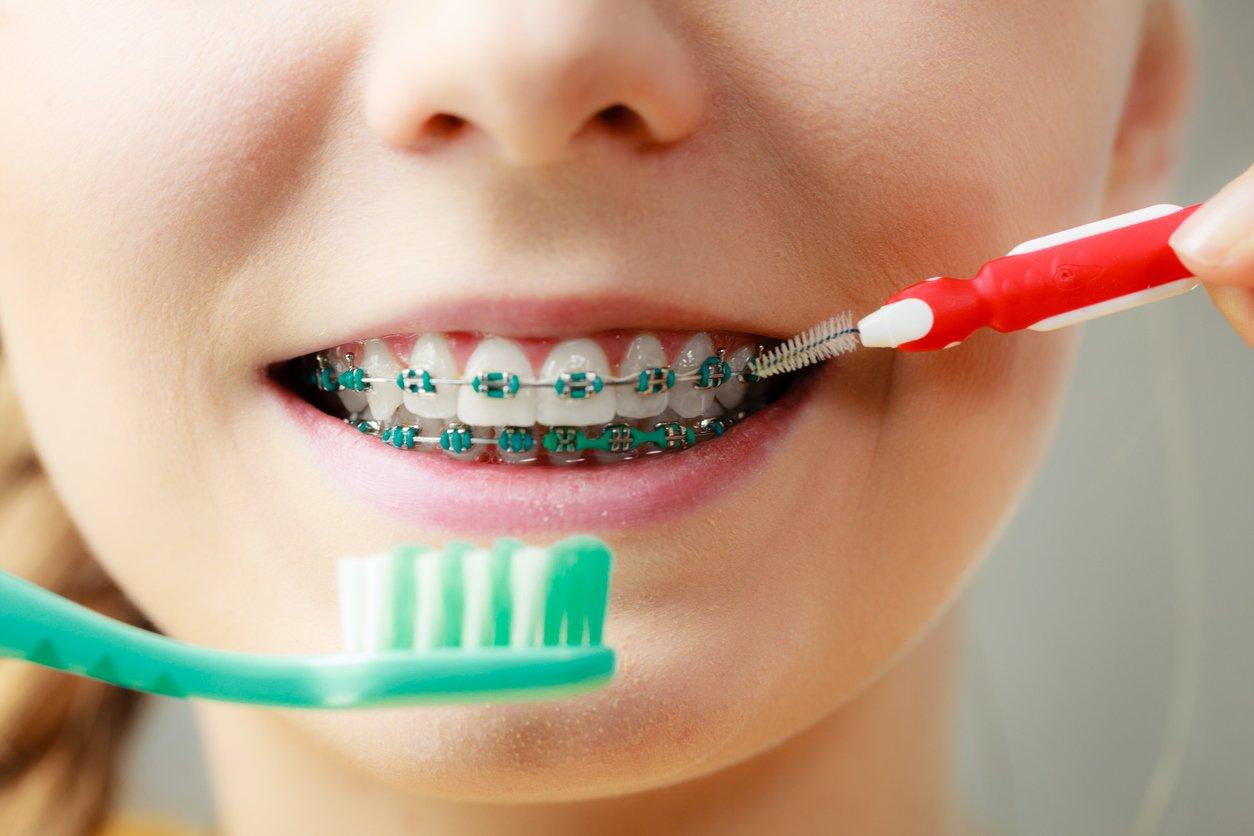Braces: (308, 346, 784, 464)
